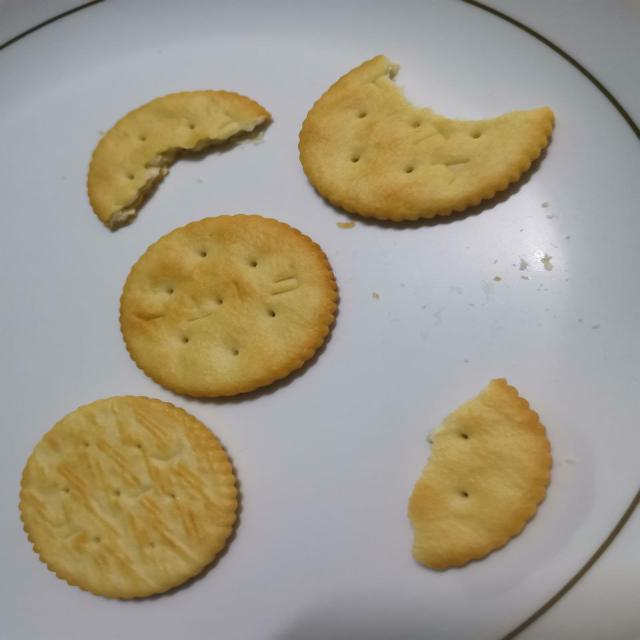broken biscuit: (296, 53, 556, 223), (405, 376, 554, 571), (85, 87, 272, 230)
intact biscuit: (17, 394, 241, 600), (117, 212, 340, 398)
